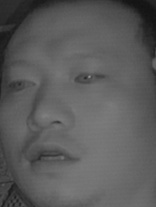eye: (73, 65, 108, 87), (5, 75, 36, 93)
mouth: (23, 137, 85, 175)
